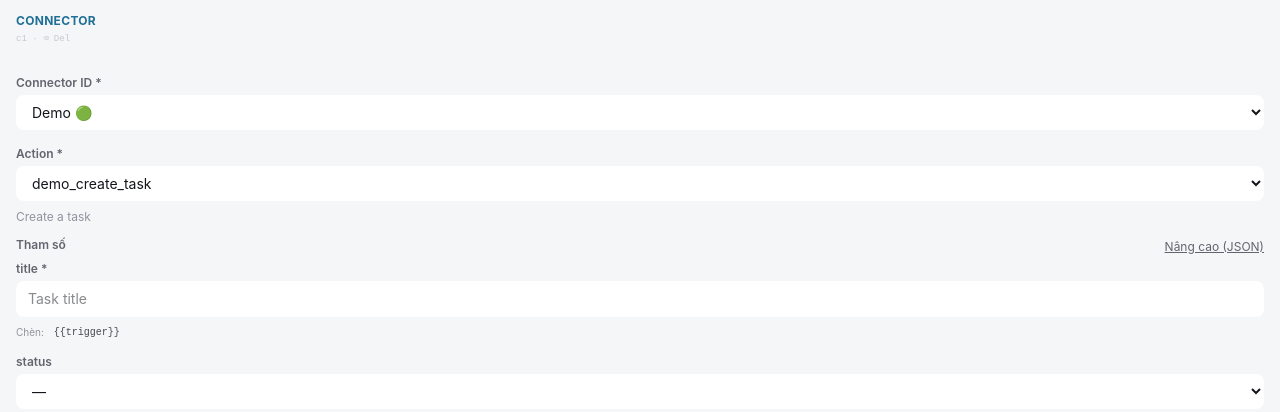
Test case: ConnectorForm — schema-driven args (#1) › Advanced toggle switches to the raw JSON editor
Click the button "Nâng cao (JSON)" at (1214, 246), box [1165,238,1264,254]
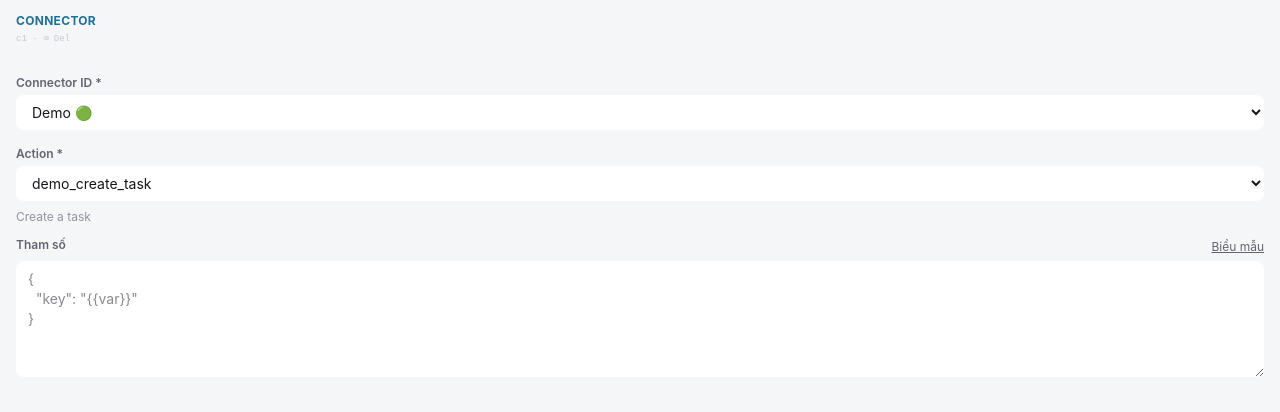
Check: the text box with placeholder "{ \"key\": \"{{var}}\" }" is shown, box [16,260,1264,376]
